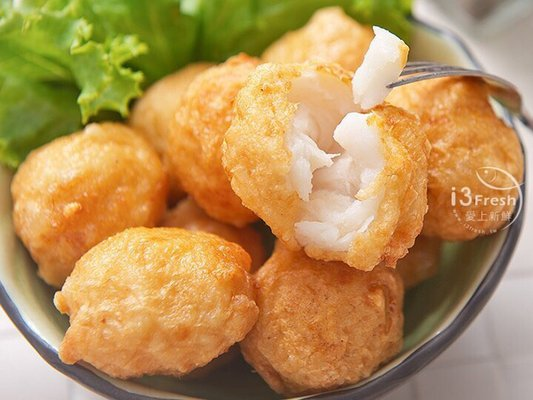curry: (0, 0, 420, 176)
